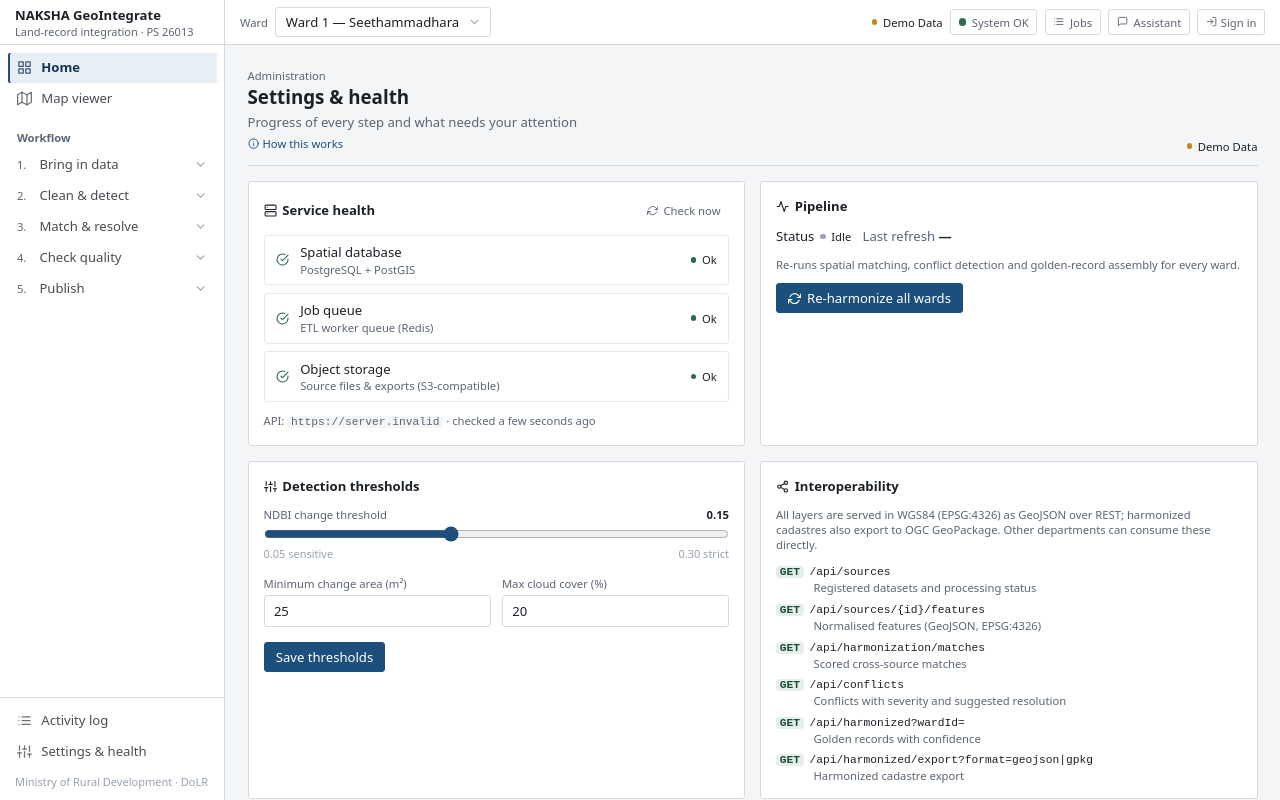
it: SettingsPage › reports service health and saves thresholds
Expected: the text "Spatial database" is shown, [300,243,402,261]
Expected: the text "ok" is shown 3 times, [691,252,717,267]; [691,311,717,326]; [691,369,717,384]
Click the button "Save thresholds". click: [324, 657]
box: [264,642,385,672]
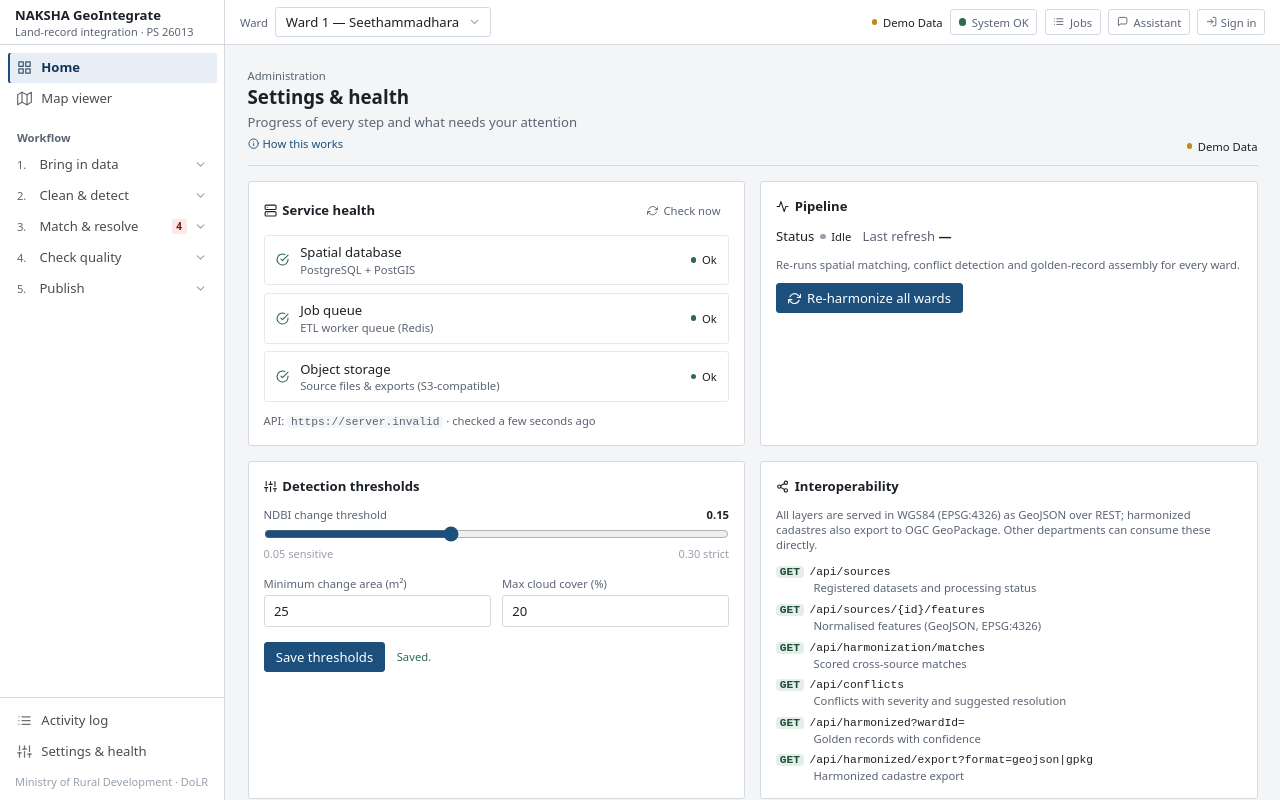
Result: the text "Saved." is shown at [397,650,431,664]
